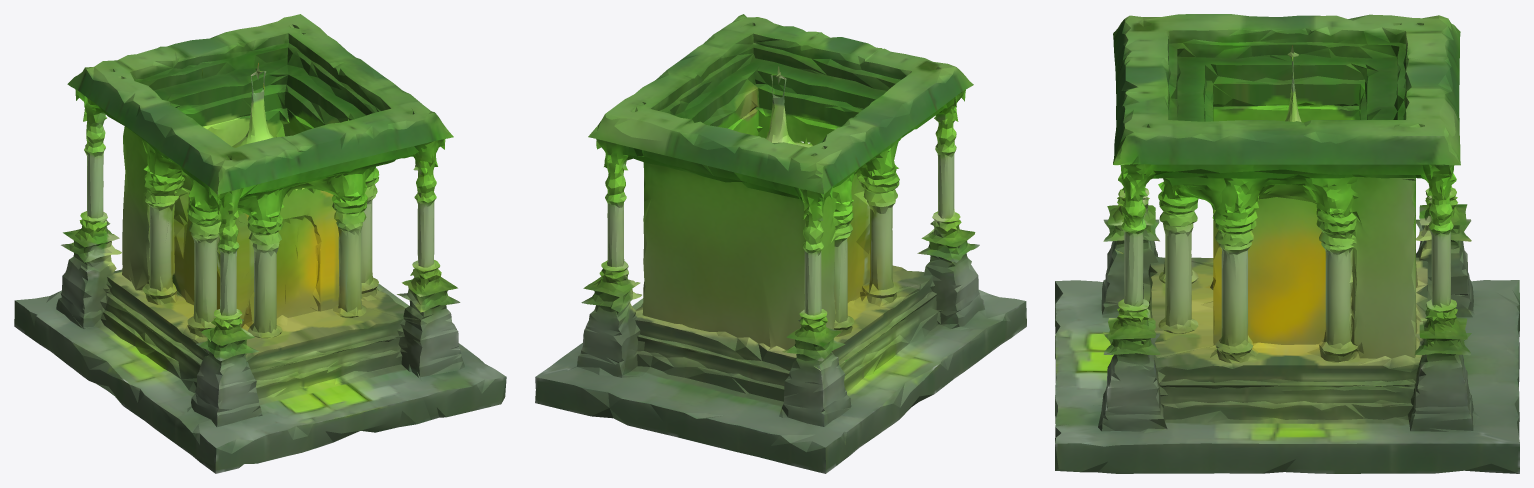
Rendered from undead_library.glb.
3 views of the same model, side by side, from view 1: azimuth 30°, elevation 25°; view 2: azimuth 150°, elevation 25°; view 3: azimuth 270°, elevation 25° (orthographic). The views are drawn at different scales.
Visible parts, largest first — view 1: undead_library; view 2: undead_library; view 3: undead_library.
Part boxes in pixels (bbox=[...]): undead_library: bbox=[14, 14, 506, 473]; undead_library: bbox=[535, 14, 1026, 473]; undead_library: bbox=[1055, 14, 1519, 473].
Bounding box in the file's own units: 1.57 × 1.55 × 1.88.
1 material, 1 textured.
